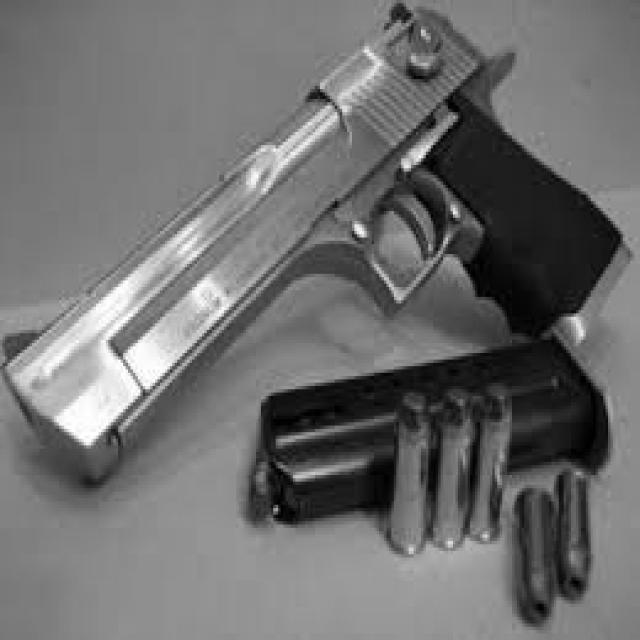handgun: (0, 5, 634, 489)
